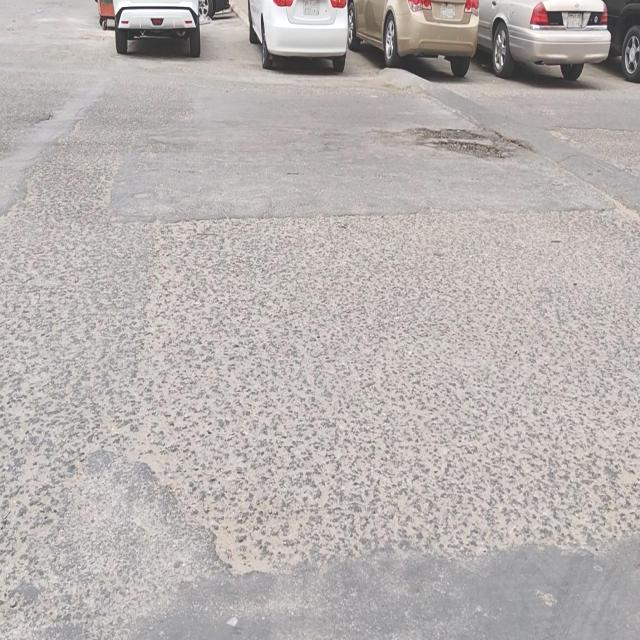Potholes: (411, 124, 517, 162)
